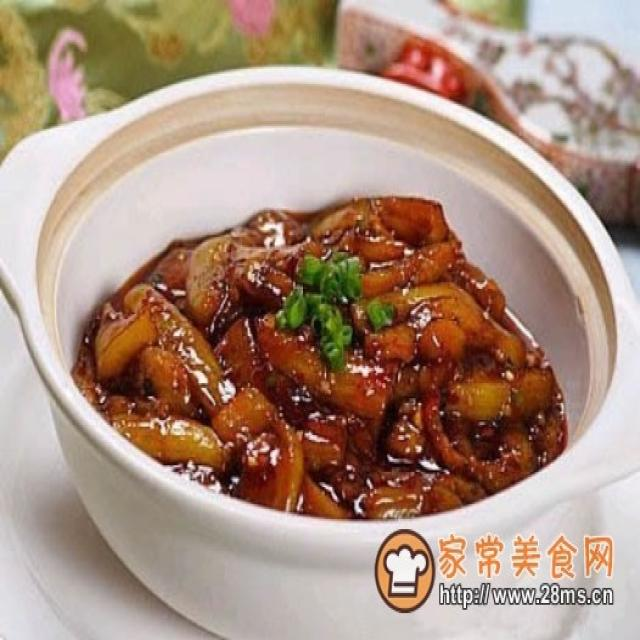鸡蛋料理: (10, 61, 619, 586)
